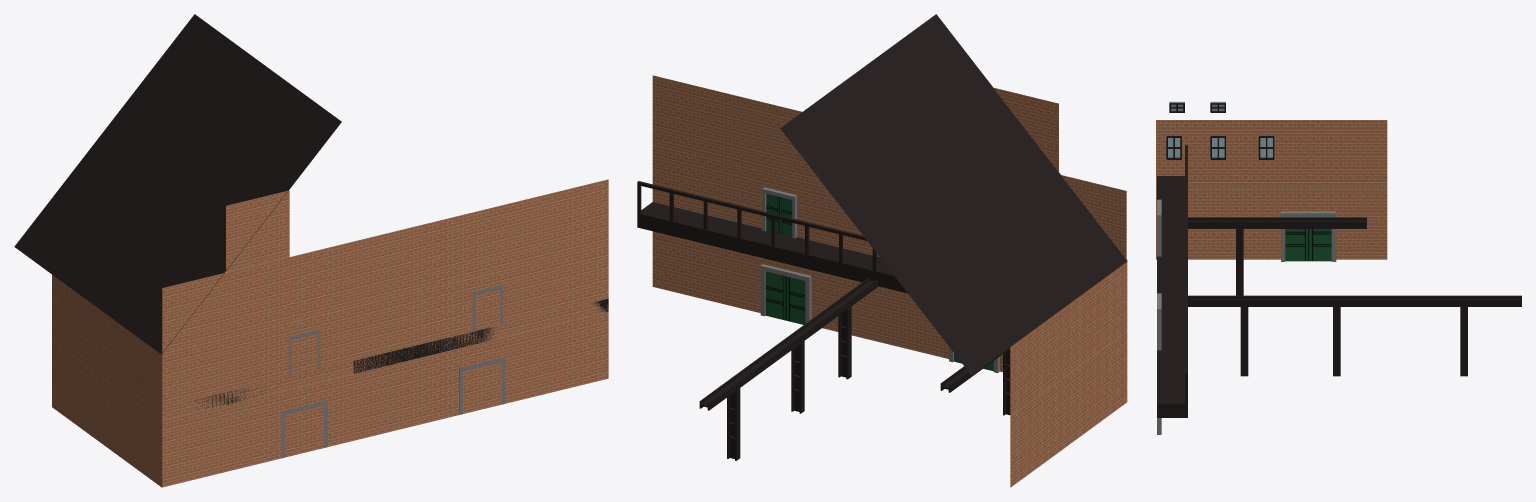
The model's file is souko.obj.
The picture shows the model from 3 angles, left to right: view 1: azimuth 30°, elevation 25°; view 2: azimuth 150°, elevation 25°; view 3: azimuth 270°, elevation 25°; orthographic projection. The views are drawn at different scales.
Parts seen in each view (by area): view 1: 平面.020_平面.023, 平面.002_平面.003, 平面.026_平面.029, 平面.025_平面.028, 平面.010_平面.011, 平面.023_平面.001, 平面.019_平面.020, 平面.021_平面.024, 平面.022_平面.025, 平面.011_平面.012, 平面.008_平面.009, 平面.023_平面.026 (+19 smaller); view 2: 平面.020_平面.023, 立方体.009_立方体, 平面.021_平面.024, 平面.024_平面.027, 平面.019_平面.020, 平面.018_平面.019, 平面.002_平面.003, 立方体.002_立方体.006, 平面.014_平面.015, 平面.017_平面.018, 平面.013_平面.014, 平面.015_平面.016 (+15 smaller); view 3: 立方体.009_立方体, 平面.016_平面.017, 平面.015_平面.016, 平面.012_平面.013, 平面.017_平面.018, 平面.014_平面.015, 立方体.002_立方体.006, 立方体.032_立方体.002_立方体.032_立方体.003, 平面.013_平面.014, 立方体.032_立方体.033, 立方体.027_立方体.059, 立方体.021_立方体.049 (+1 smaller).
Boxes of the visible parts, box(x1,y1,x2,y2) form: 平面.020_平面.023: box(14, 14, 341, 354); 平面.002_平面.003: box(353, 358, 417, 440); 平面.026_平面.029: box(353, 226, 417, 307); 平面.025_平面.028: box(289, 241, 353, 323); 平面.010_平面.011: box(162, 405, 225, 487); 平面.023_平面.001: box(226, 190, 289, 272); 平面.019_平面.020: box(545, 312, 608, 393); 平面.021_平面.024: box(545, 179, 608, 261); 平面.022_平面.025: box(162, 272, 225, 354); 平面.011_平面.012: box(162, 338, 225, 420); 平面.008_平面.009: box(226, 323, 289, 404); 平面.023_平面.026: box(226, 257, 289, 338); 平面.020_平面.023: box(780, 14, 1127, 375); 立方体.009_立方体: box(637, 202, 907, 293); 平面.021_平面.024: box(652, 75, 720, 162); 平面.024_平面.027: box(720, 92, 788, 178); 平面.019_平面.020: box(652, 231, 720, 302); 平面.018_平面.019: box(652, 145, 720, 217); 平面.002_平面.003: box(856, 281, 923, 352); 立方体.002_立方体.006: box(791, 277, 878, 413); 平面.014_平面.015: box(1049, 360, 1088, 458); 平面.017_平面.018: box(1010, 389, 1049, 487); 平面.013_平面.014: box(1088, 332, 1127, 430); 平面.015_平面.016: box(1049, 290, 1088, 388); 立方体.009_立方体: box(1157, 176, 1187, 417); 平面.016_平面.017: box(1310, 120, 1387, 189); 平面.015_平面.016: box(1233, 120, 1310, 189); 平面.012_平面.013: box(1156, 120, 1232, 189); 平面.017_平面.018: box(1310, 190, 1387, 259); 平面.014_平面.015: box(1233, 190, 1310, 259); 立方体.002_立方体.006: box(1188, 295, 1340, 376); 立方体.032_立方体.002_立方体.032_立方体.003: box(1340, 295, 1521, 376); 平面.013_平面.014: box(1156, 190, 1232, 259); 立方体.032_立方体.033: box(1188, 217, 1366, 295); 立方体.027_立方体.059: box(1281, 211, 1336, 261); 立方体.021_立方体.049: box(1185, 145, 1187, 376).
Bounding box in the file's own units: 35.07 × 24.13 × 23.73.
Materials: 51 (51 with a texture image).
